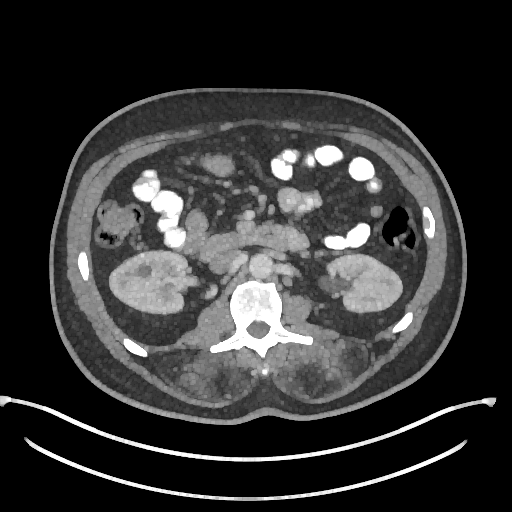Lesion: (133, 262, 156, 282)
